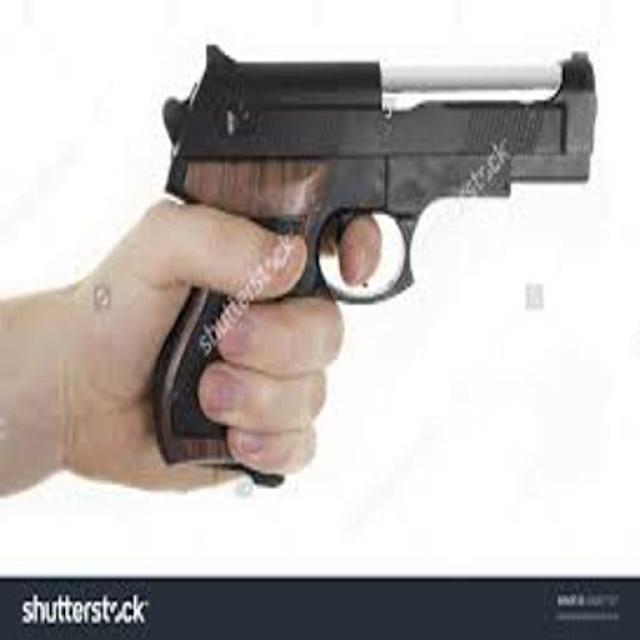pistol: (156, 27, 597, 476)
